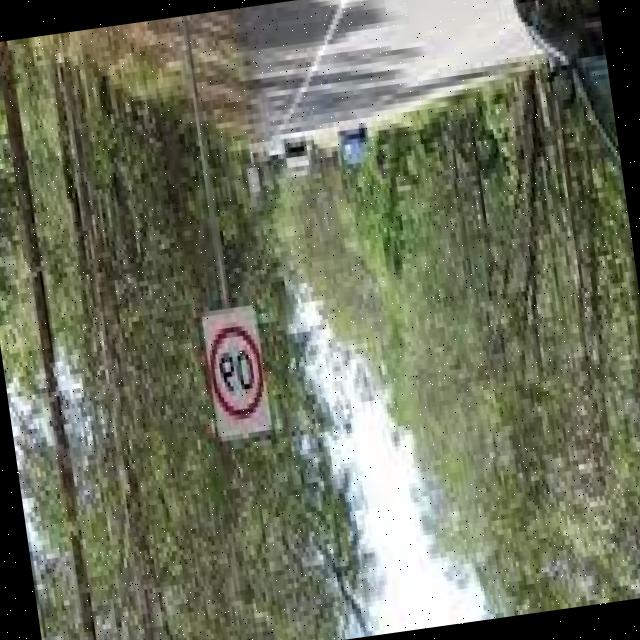speed_limit_60: (202, 312, 272, 433)
